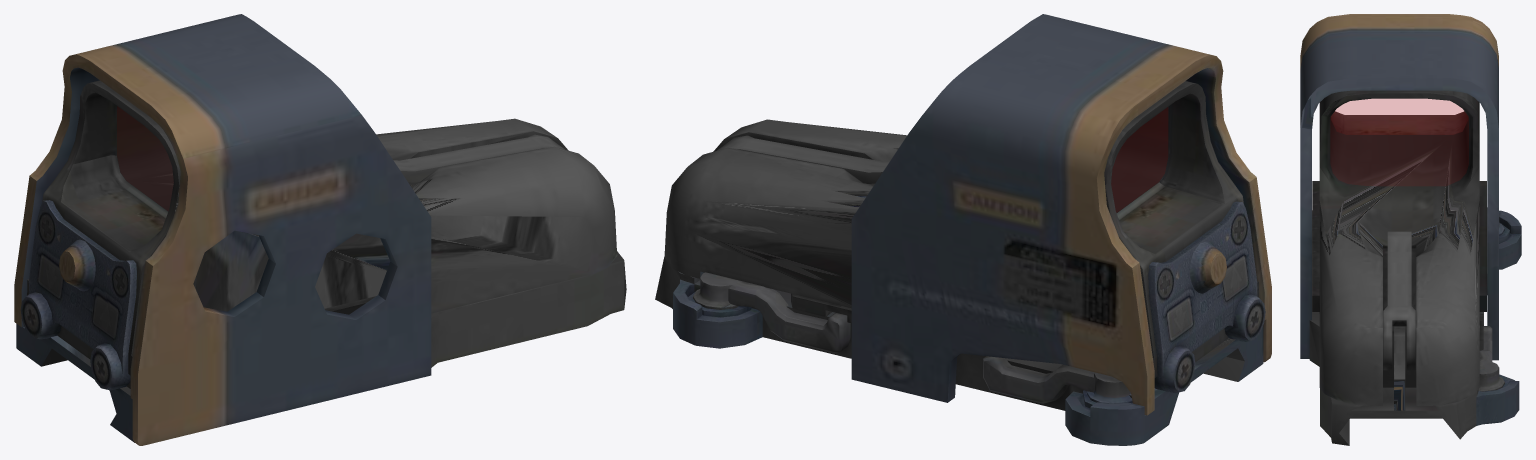
3 views of the same model, side by side, from view 1: azimuth 30°, elevation 25°; view 2: azimuth 150°, elevation 25°; view 3: azimuth 270°, elevation 25° (orthographic). The views are drawn at different scales.
Parts seen in each view (by area): view 1: 0000_DotSight_001_L0; view 2: 0000_DotSight_001_L0; view 3: 0000_DotSight_001_L0, 0001_DotSight_001_L0.
Boxes of the visible parts, bbox=[...] form: 0000_DotSight_001_L0: bbox=[14, 14, 626, 445]; 0000_DotSight_001_L0: bbox=[655, 14, 1271, 445]; 0000_DotSight_001_L0: bbox=[1300, 14, 1521, 445]; 0001_DotSight_001_L0: bbox=[1331, 99, 1468, 134].
Bounding box in the file's own units: 2349 × 1316 × 1063.
